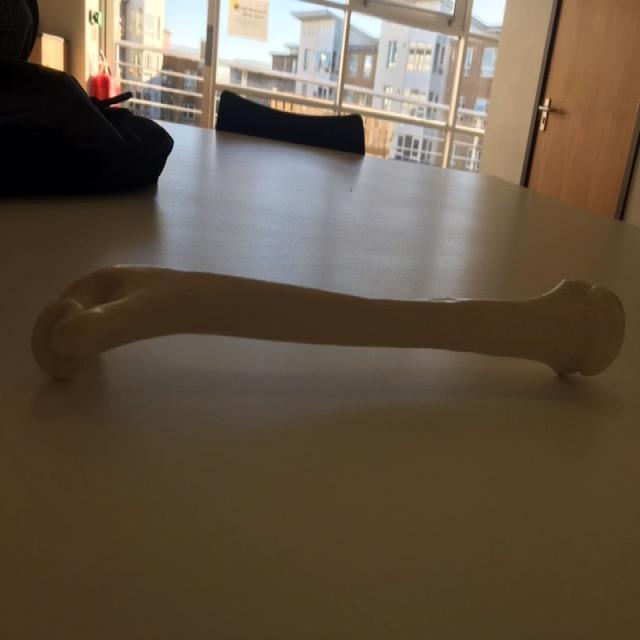bone: (29, 258, 630, 394)
